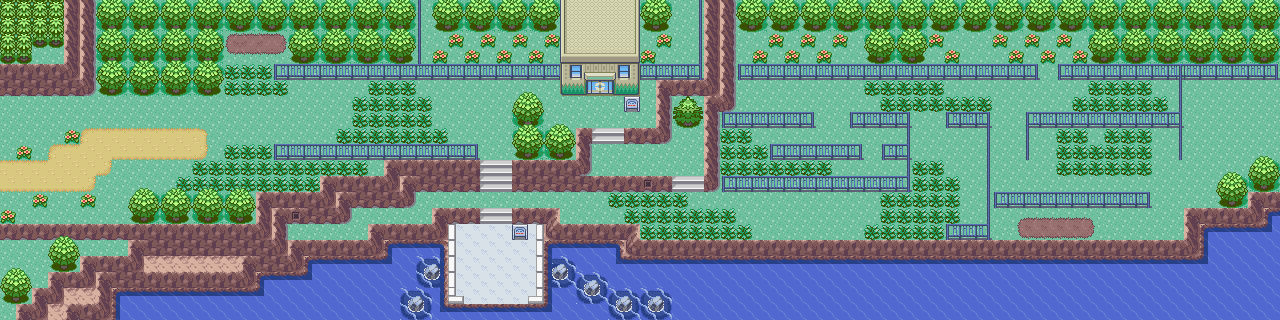misc: (557, 26, 644, 100)
